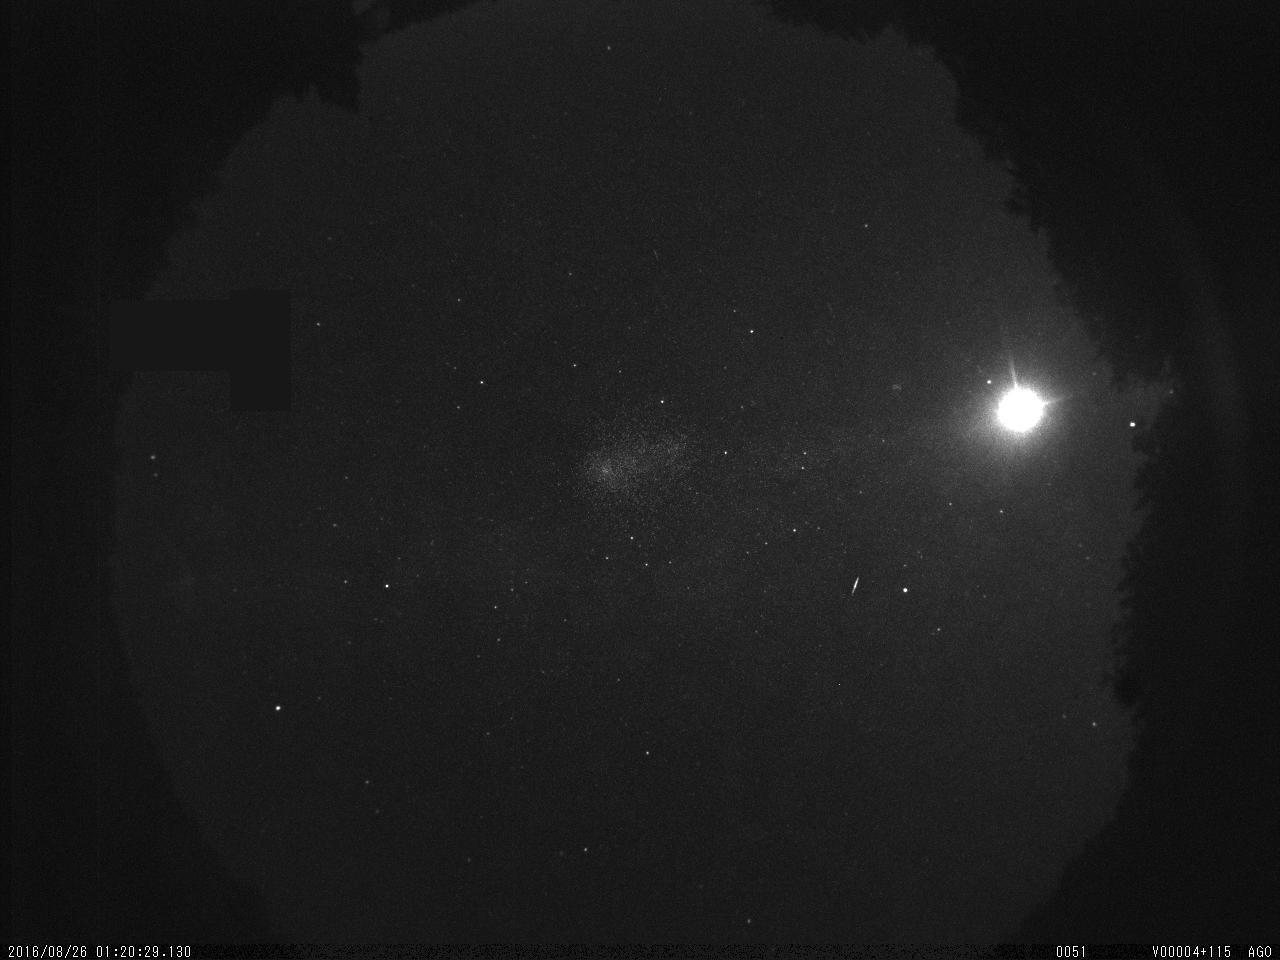Meteor: (849, 572, 862, 599)
